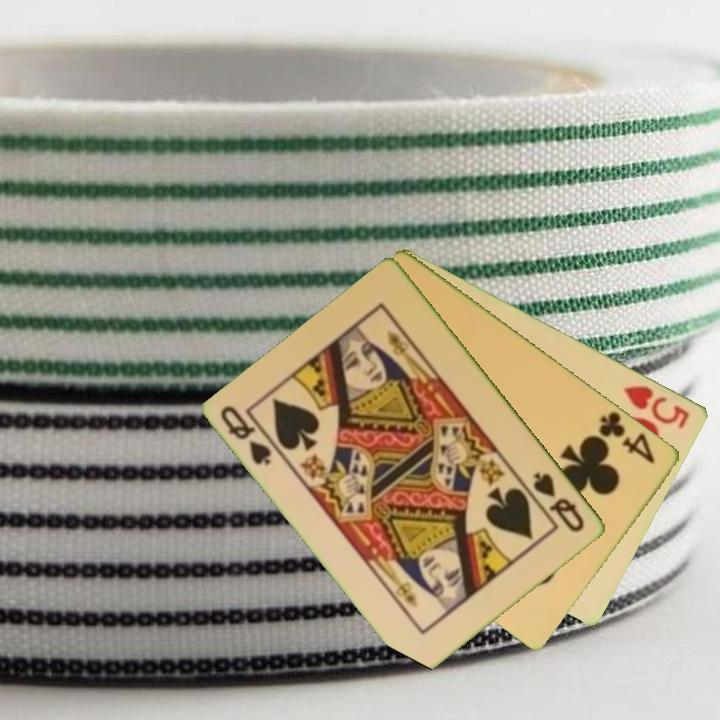4c: (595, 407, 659, 467)
5h: (620, 381, 693, 432)
Qs: (217, 402, 285, 469), (530, 469, 588, 536)
